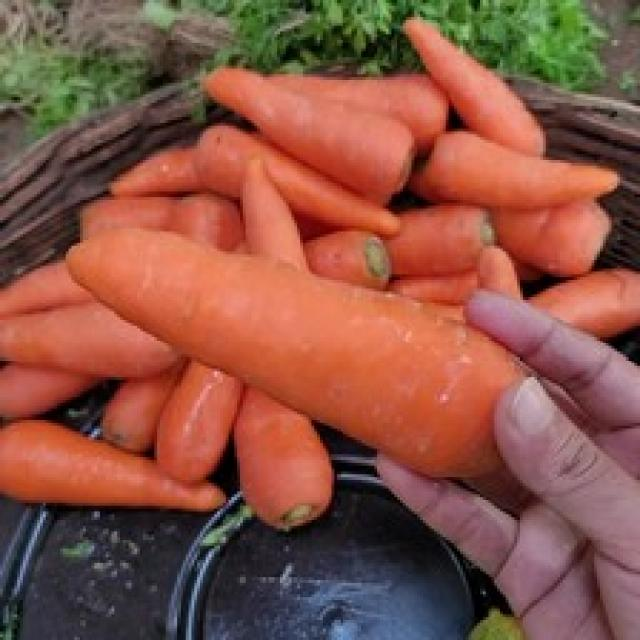Fresh_Carrot: (62, 227, 520, 470), (209, 59, 408, 198), (190, 123, 411, 244), (0, 425, 226, 501), (416, 129, 614, 210), (157, 372, 250, 488), (362, 209, 498, 272)
